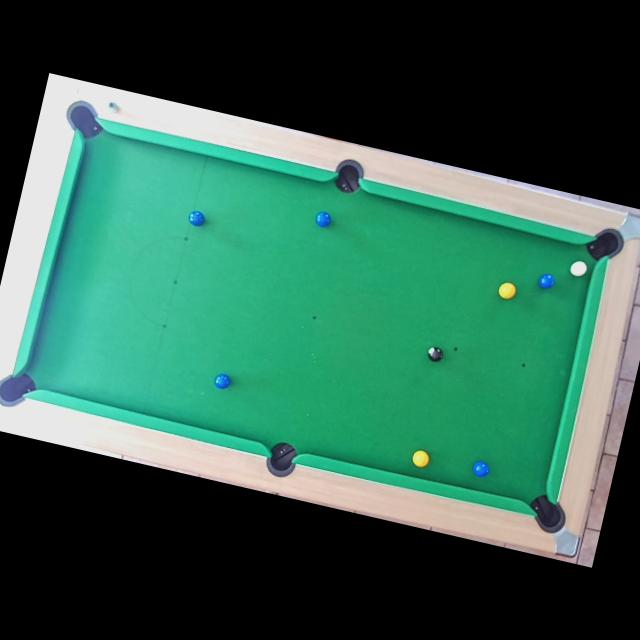Ball: (409, 447, 432, 469), (496, 280, 518, 302), (312, 208, 333, 230), (470, 459, 491, 479), (186, 208, 207, 228), (536, 270, 556, 290), (212, 372, 232, 391), (568, 260, 588, 278), (426, 345, 445, 363)
